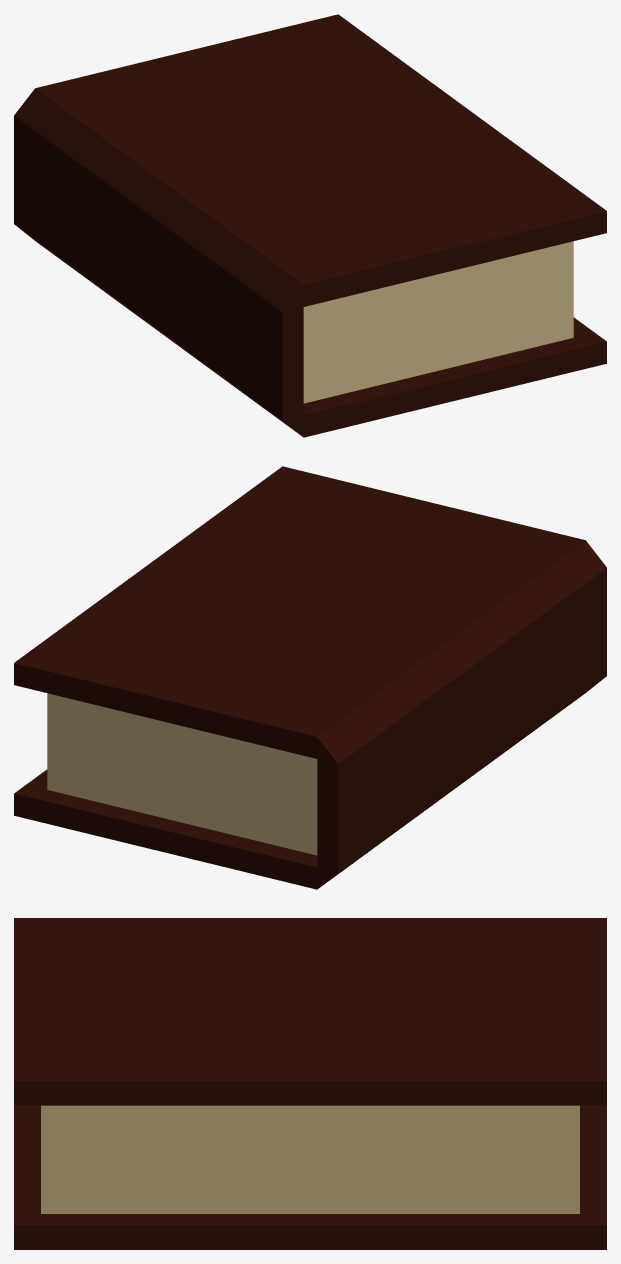
Rendered from Book6.fbx.
3 views of the same model, one above another, from view 1: azimuth 30°, elevation 25°; view 2: azimuth 150°, elevation 25°; view 3: azimuth 270°, elevation 25° (orthographic). The views are drawn at different scales.
Parts seen in each view (by area): view 1: Cube; view 2: Cube; view 3: Cube.
Part boxes in pixels (x1,y1,x2,y2): Cube: (14,14,606,437); Cube: (14,466,606,889); Cube: (14,918,606,1249).
Size of the model in its own units: 0.345 by 0.1553 by 0.495.
